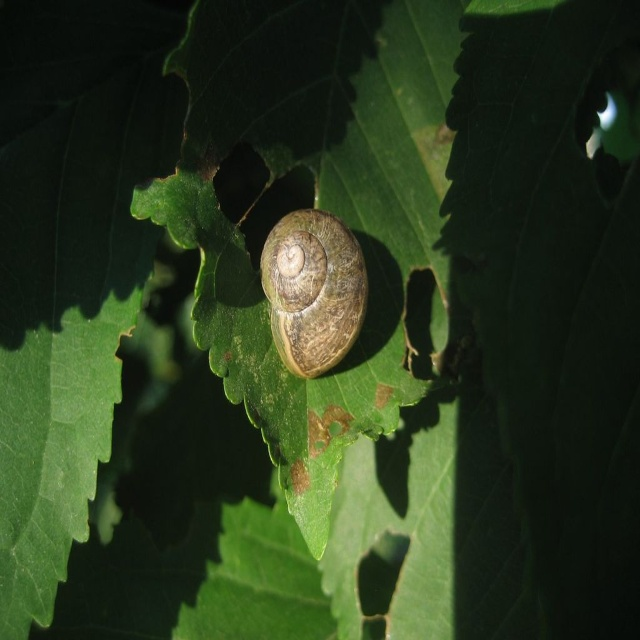Snail: (260, 205, 368, 383)
